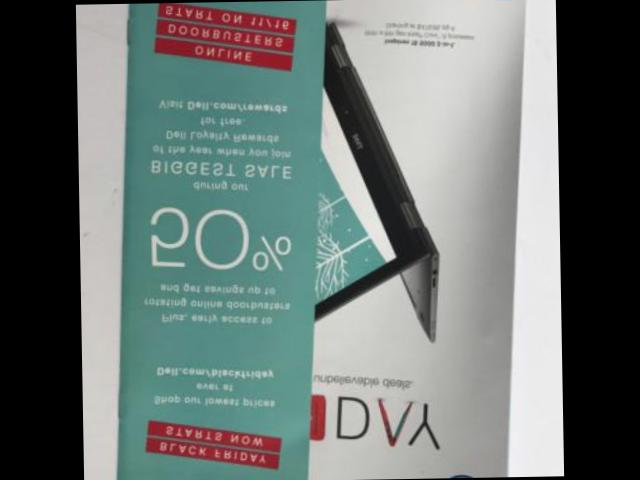cardboard paper: (120, 0, 526, 480)
